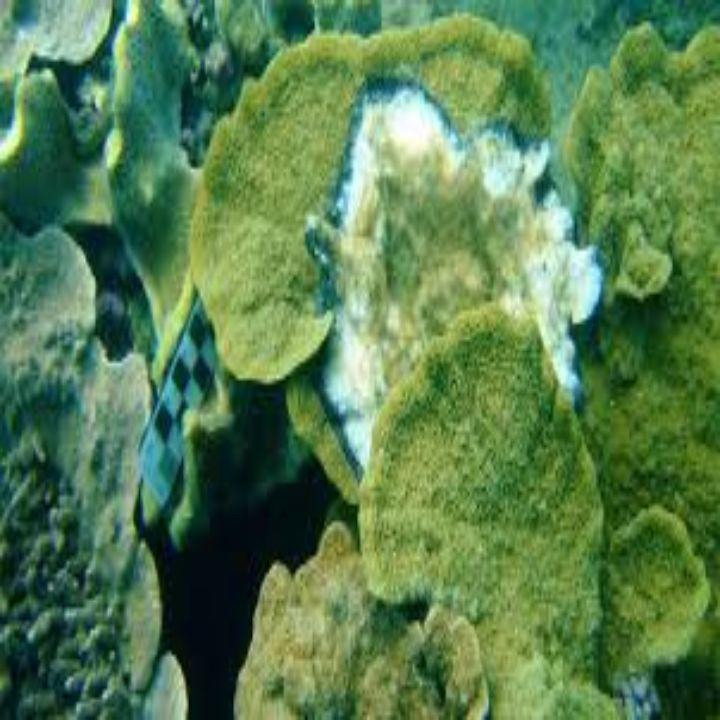White Pox Disease: (274, 68, 612, 446)
